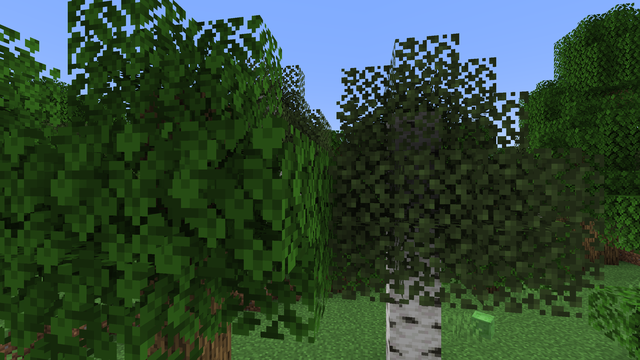slimes: (470, 310, 496, 338)
